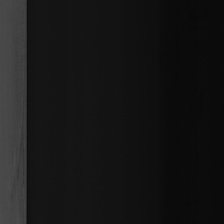silk_spot: (7, 105, 24, 202)
